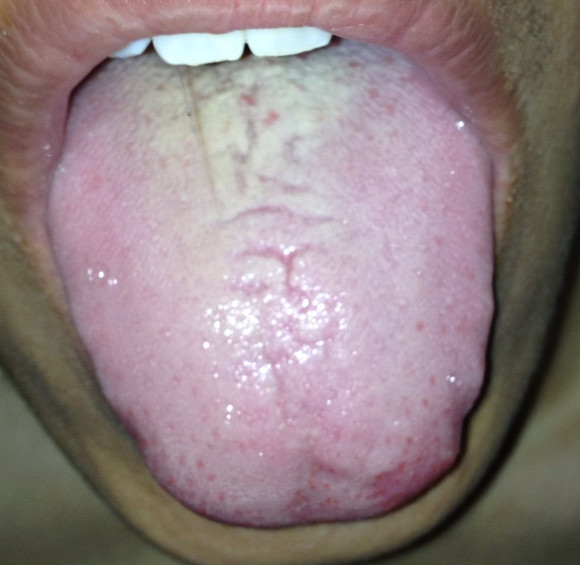hongdianshe: (413, 317, 425, 334), (403, 432, 414, 445)
huangtaishe: (47, 40, 495, 530)
zishe: (47, 40, 495, 530)
